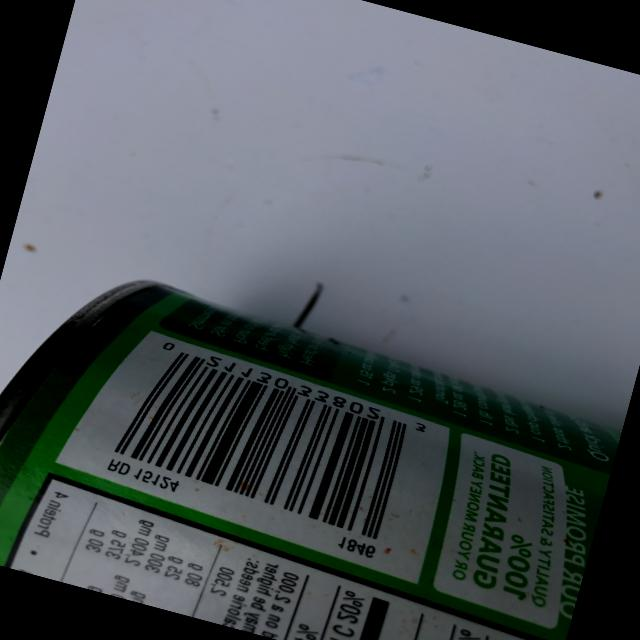Metal: (0, 236, 629, 640)
